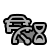ACC_WAITING: (1, 11, 50, 48)
